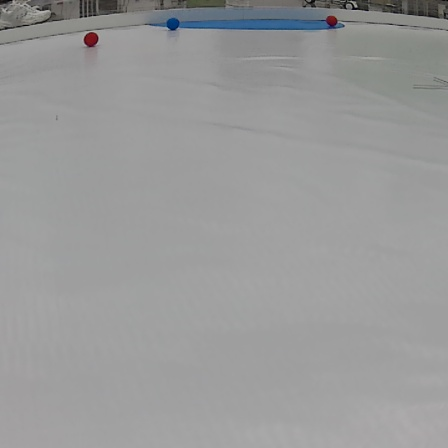blue: (165, 17, 180, 30)
blue_base: (144, 16, 348, 31)
red: (82, 32, 98, 48), (325, 15, 338, 26)
